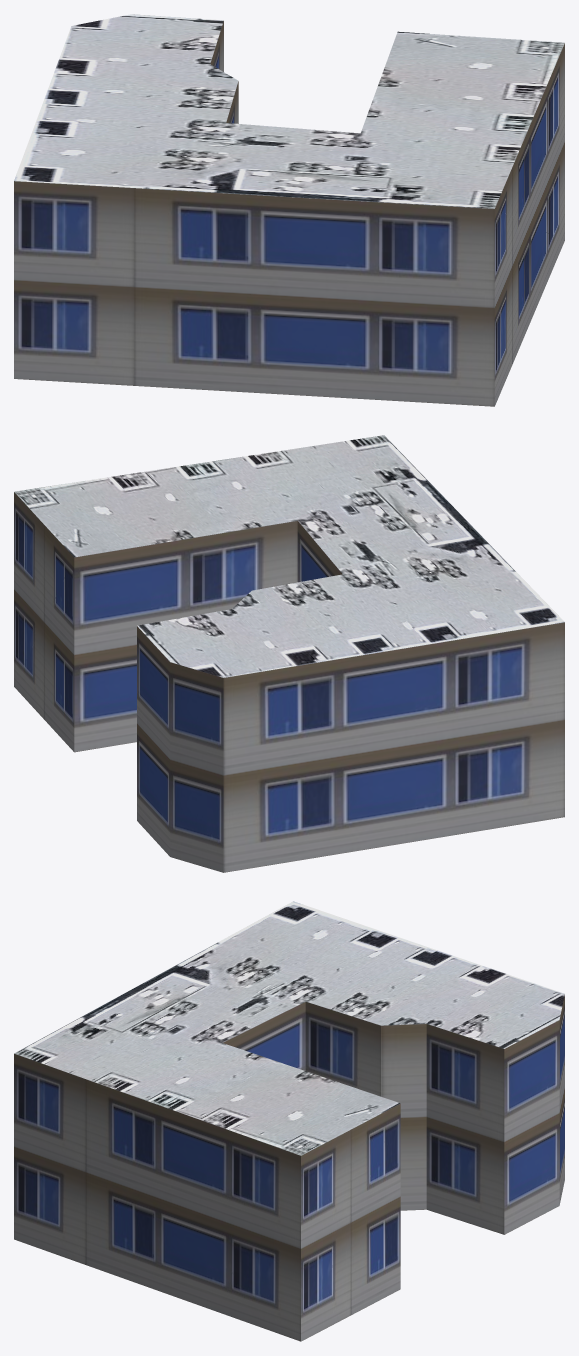
File: ResTex__2100.fbx
The picture shows the model from 3 angles, top to bottom: view 1: azimuth 30°, elevation 25°; view 2: azimuth 150°, elevation 25°; view 3: azimuth 270°, elevation 25°; orthographic projection. The views are drawn at different scales.
Parts seen in each view (by area): view 1: CityEngineMaterial_23_m, CityEngineMaterial_m; view 2: CityEngineMaterial_23_m, CityEngineMaterial_m; view 3: CityEngineMaterial_23_m, CityEngineMaterial_m.
Boxes of the visible parts, left/top/right/bottom form: CityEngineMaterial_23_m: left=14, top=21, right=564, bottom=406; CityEngineMaterial_m: left=14, top=14, right=564, bottom=208; CityEngineMaterial_23_m: left=14, top=492, right=564, bottom=872; CityEngineMaterial_m: left=14, top=435, right=564, bottom=677; CityEngineMaterial_23_m: left=14, top=995, right=564, bottom=1341; CityEngineMaterial_m: left=14, top=901, right=564, bottom=1155.
Bounding box in the file's own units: 17.62 × 6 × 16.12.
2 materials, 2 textured.
